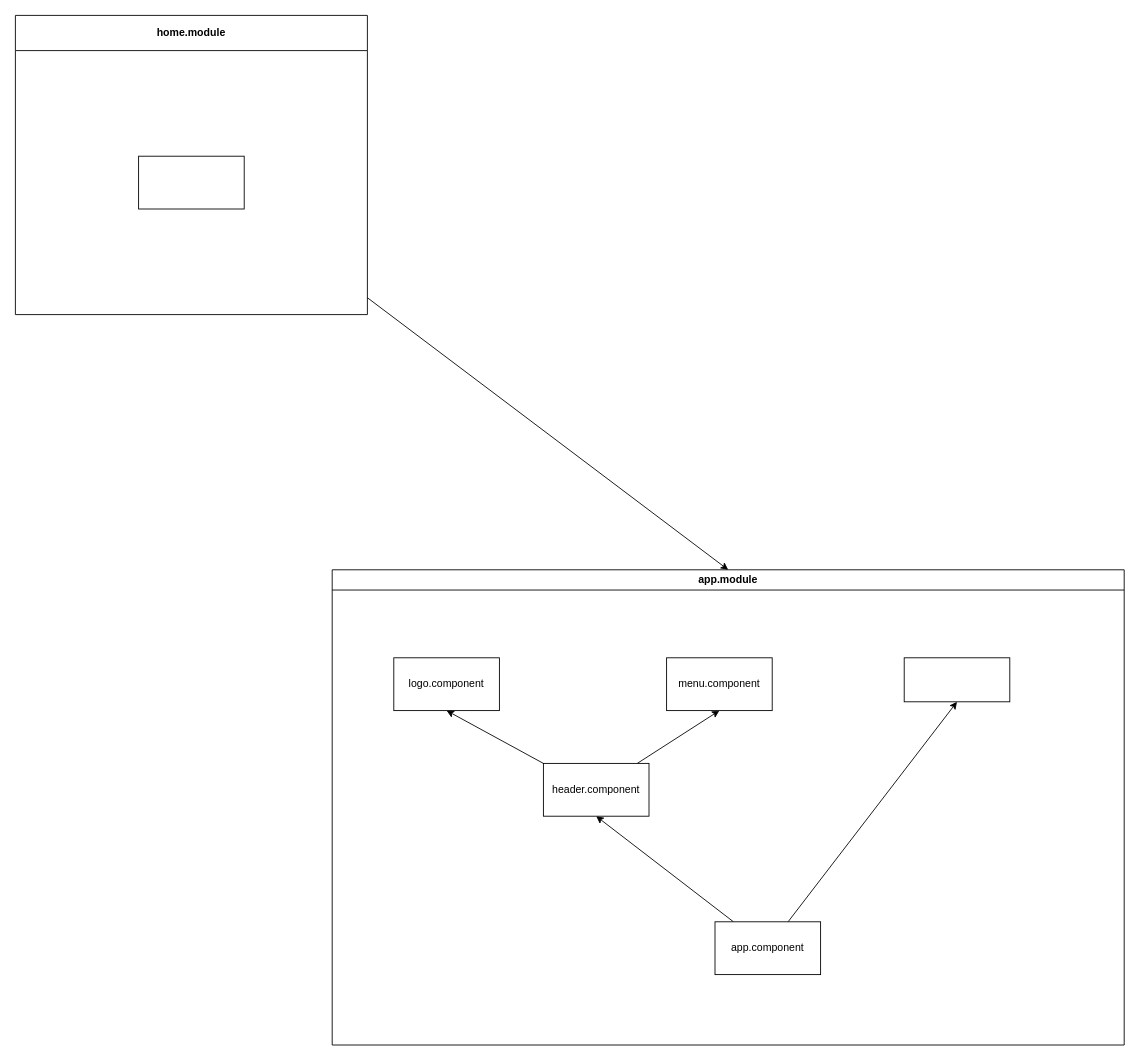
Some shapes in this 1140 by 1060 pixel diagram are drawn without their labels. Each missing label, with the centre of its shape:
"home.component" belongs at [191,182].
"title.component" belongs at [956,679].
